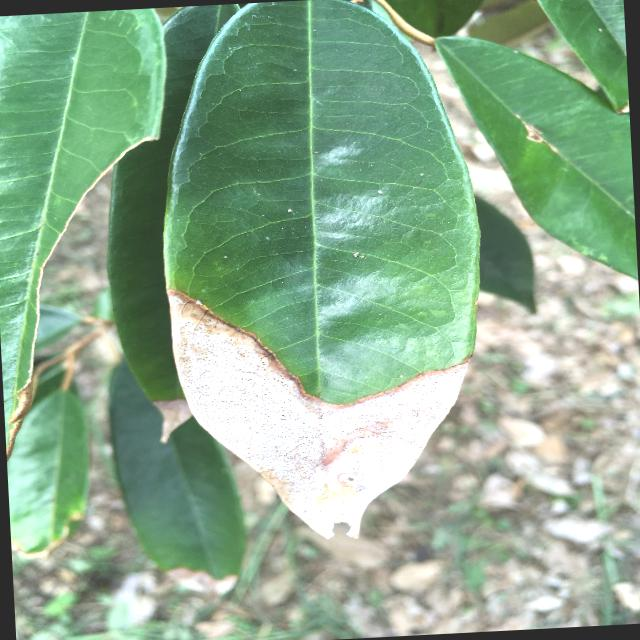Leaf Blight: (144, 0, 506, 565)
